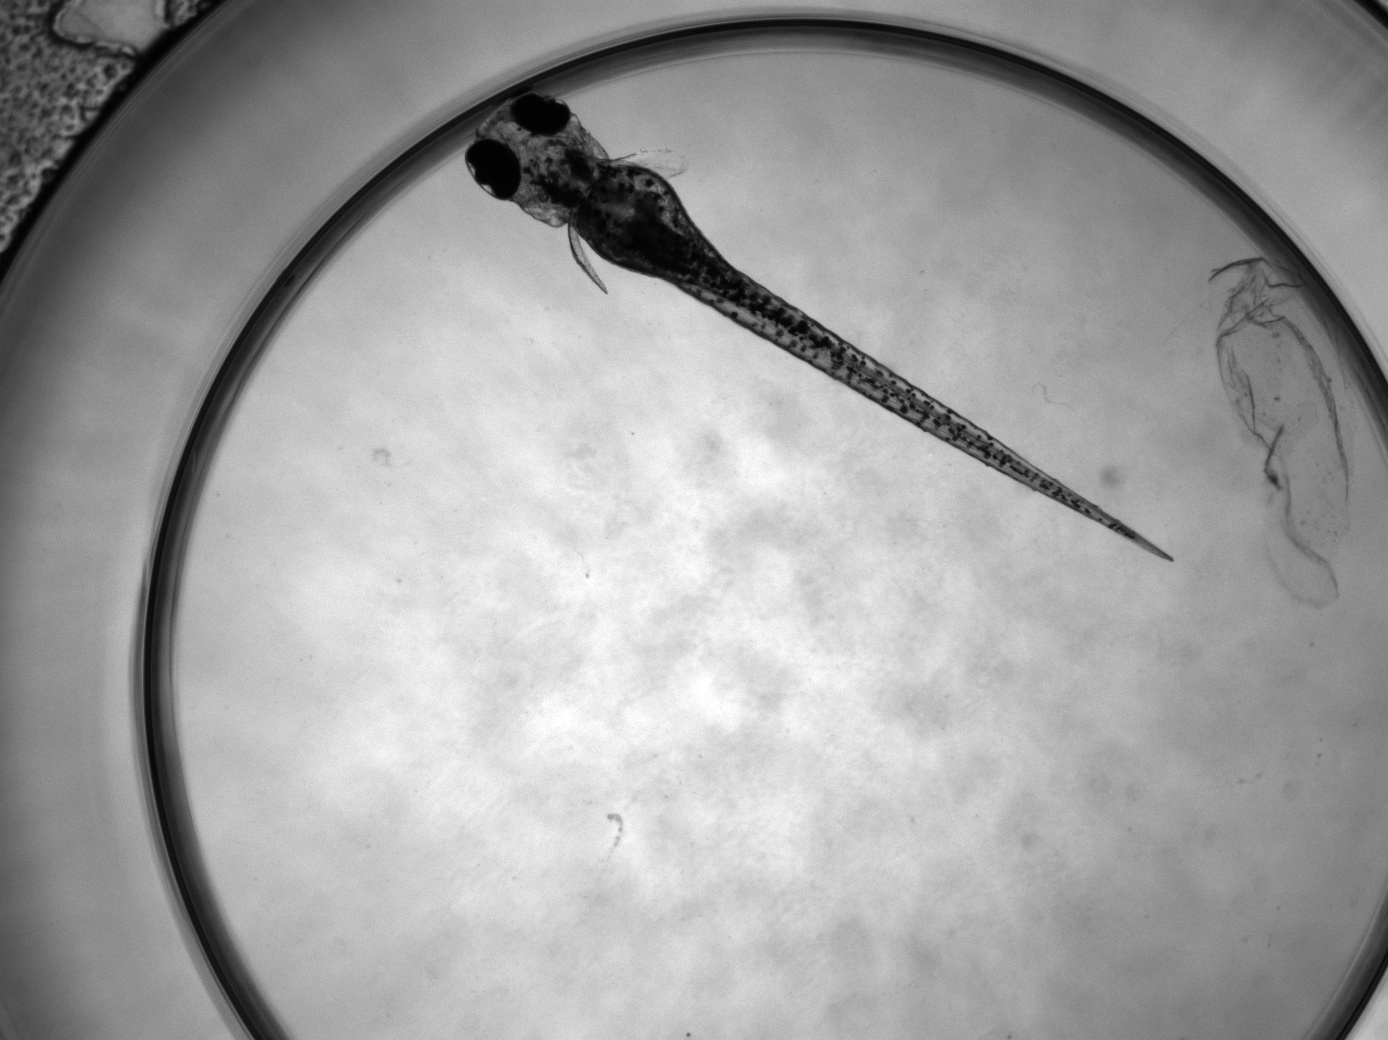debris: (1206, 258, 1349, 608)
embryo: (465, 92, 1176, 564)
eye: (466, 139, 521, 200), (510, 93, 569, 135)
yolksac: (578, 163, 692, 277)
